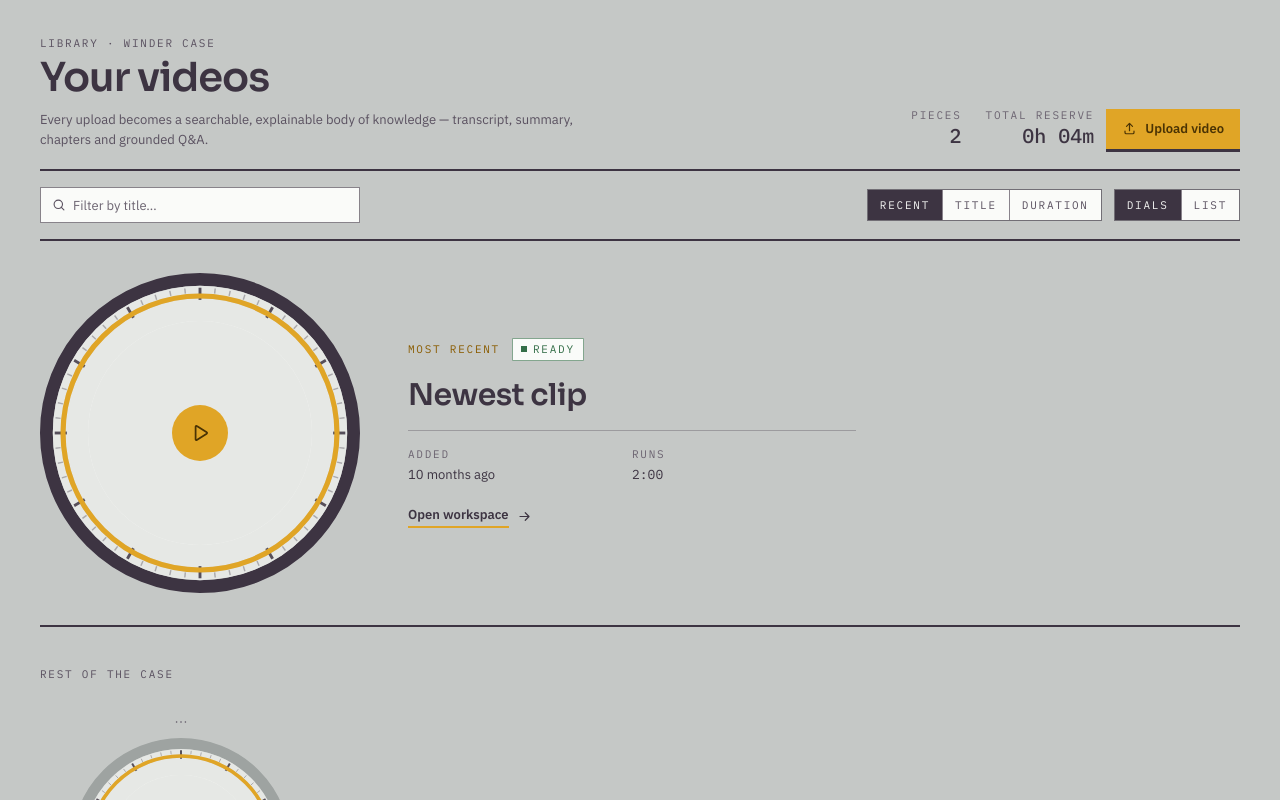
Test case: LibraryPage - delete video › closes the dialog and removes the video from the list on success
Click the button named "video actions".
click(181, 722)  # box [165,706,197,738]
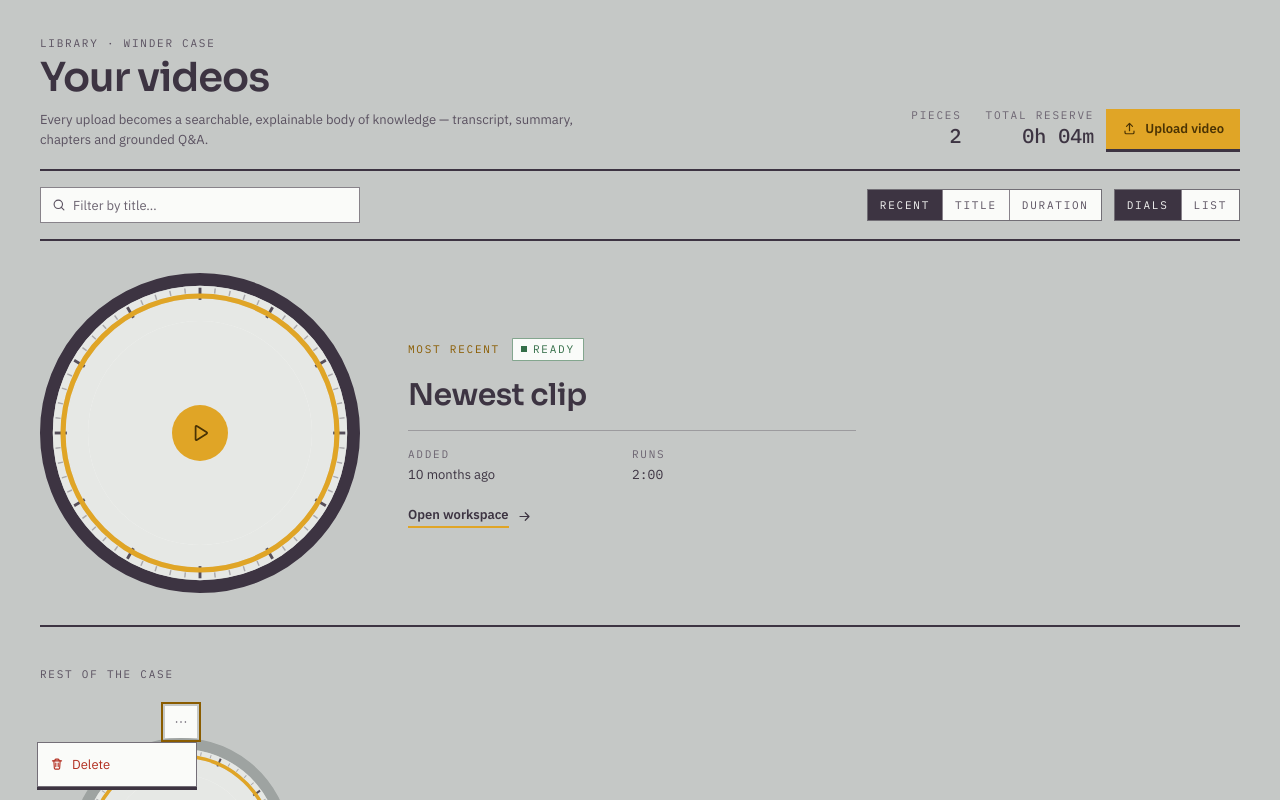
Click the menu item "Delete".
click(117, 764)  # box [38,747,196,782]
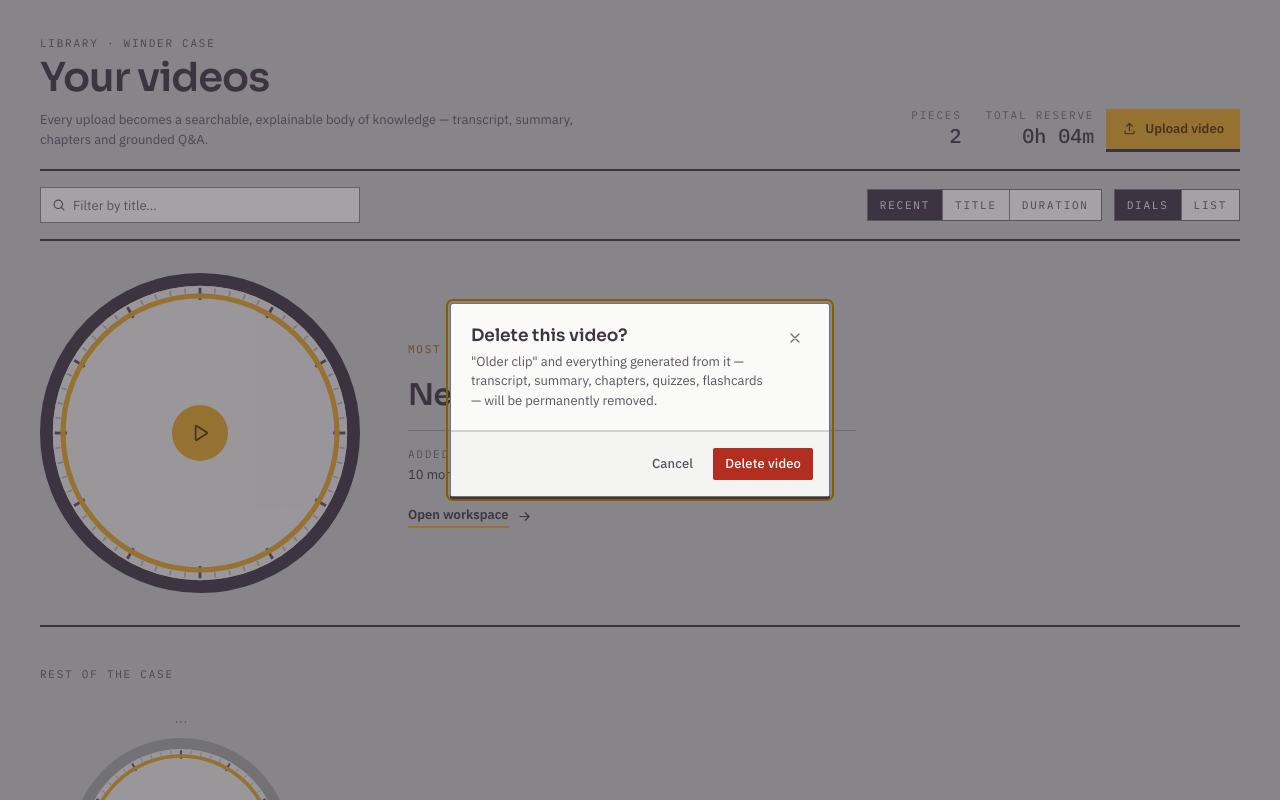
Check: the dialog is shown, box [450,303,830,497]
Click the button "Delete video".
click(763, 464)  # box [713,448,813,480]
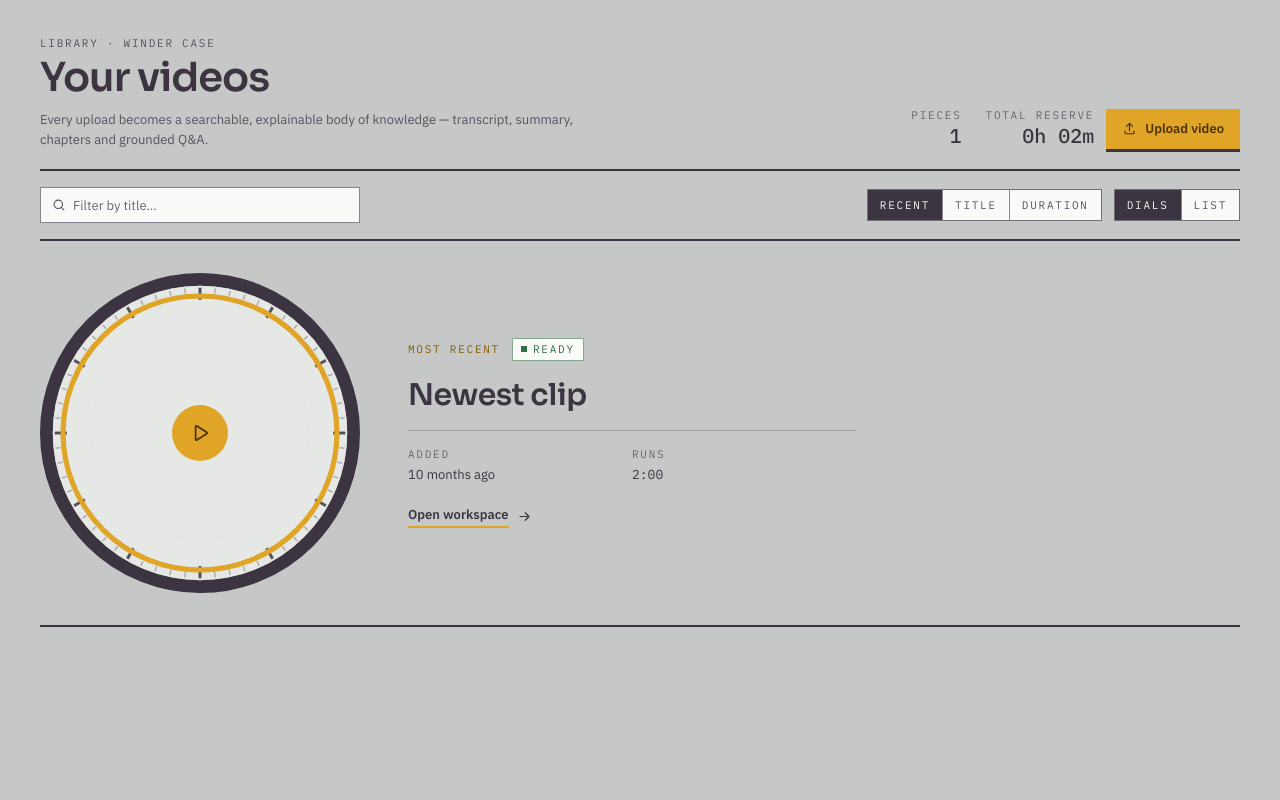
Check: the dialog is gone
